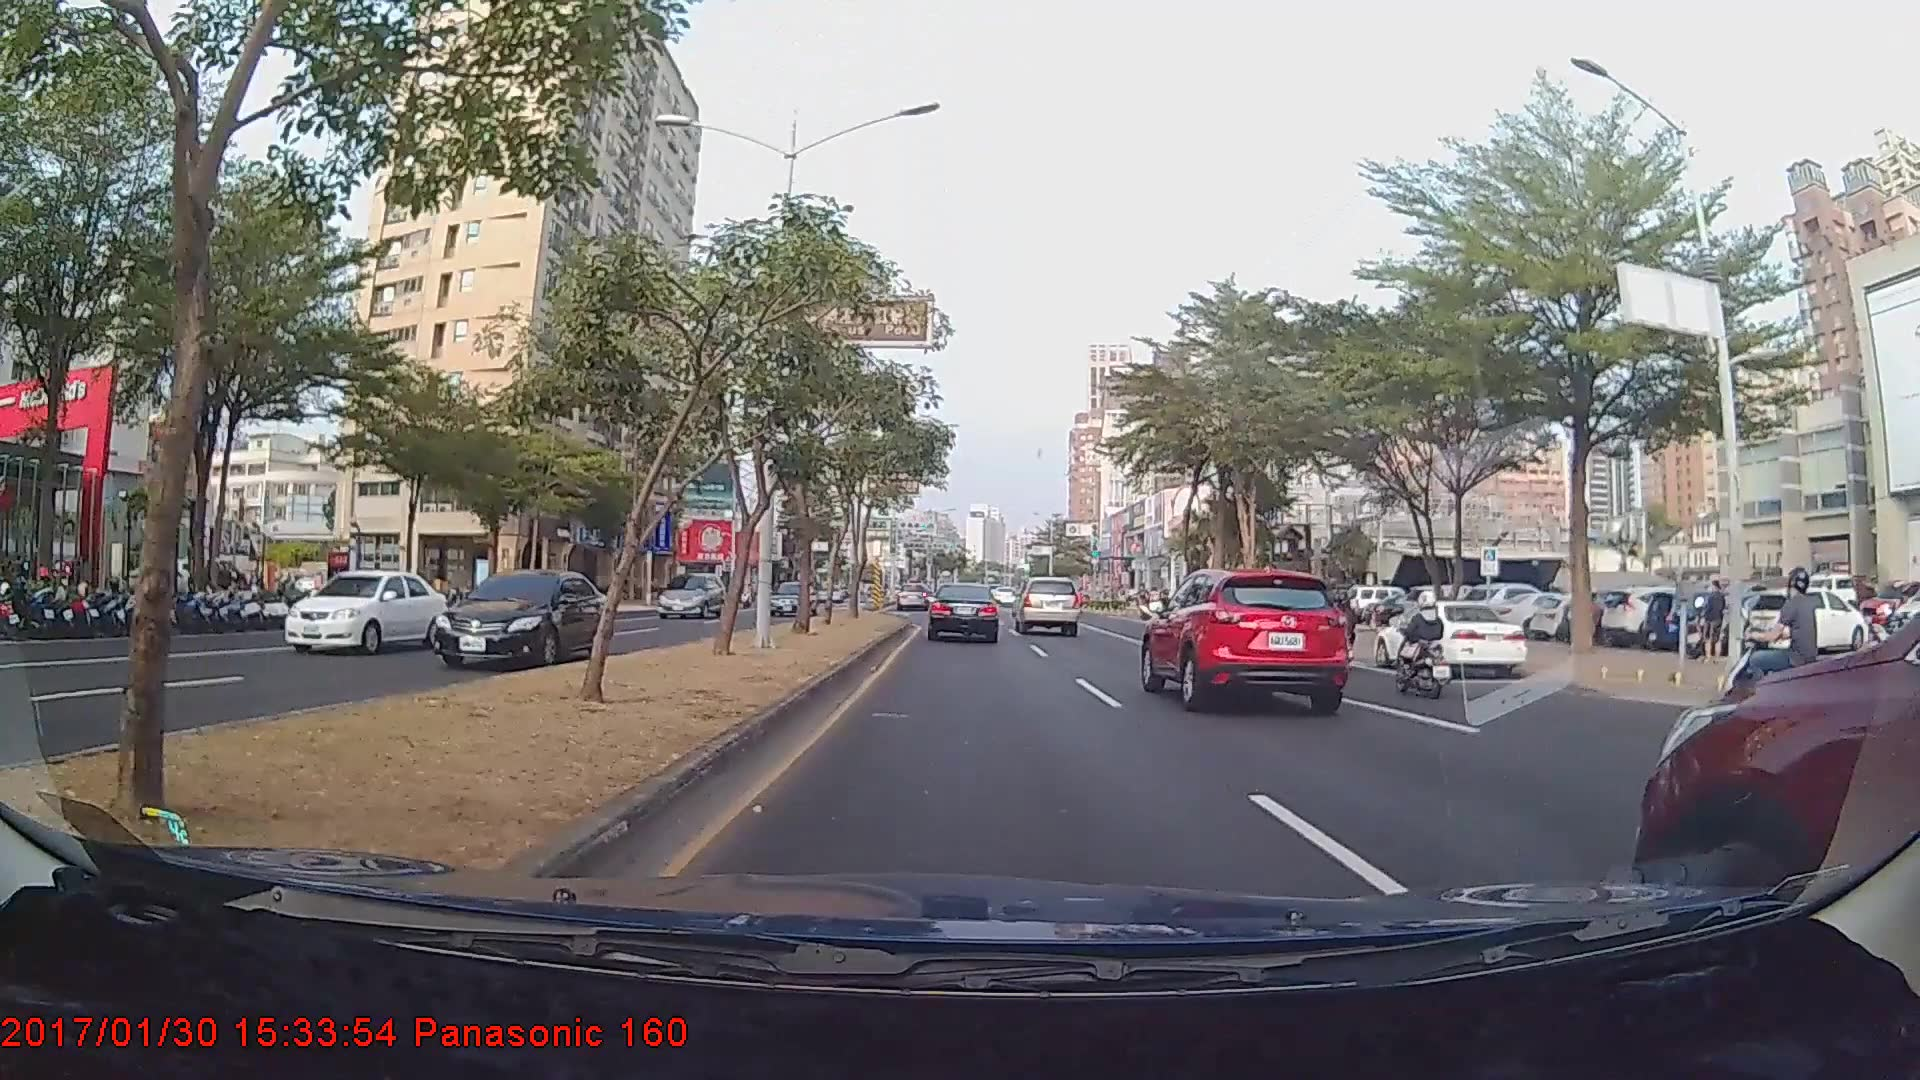pedestrian: (1697, 578, 1728, 658)
rider: (1710, 555, 1836, 757), (1384, 586, 1457, 700)
vehicle: (1619, 500, 1919, 1051), (1139, 559, 1354, 711), (424, 565, 609, 667), (281, 568, 450, 652), (1370, 598, 1528, 678), (1743, 586, 1875, 661), (927, 582, 1000, 643), (1013, 575, 1080, 635), (653, 569, 726, 617), (769, 580, 813, 619), (896, 582, 930, 612)
